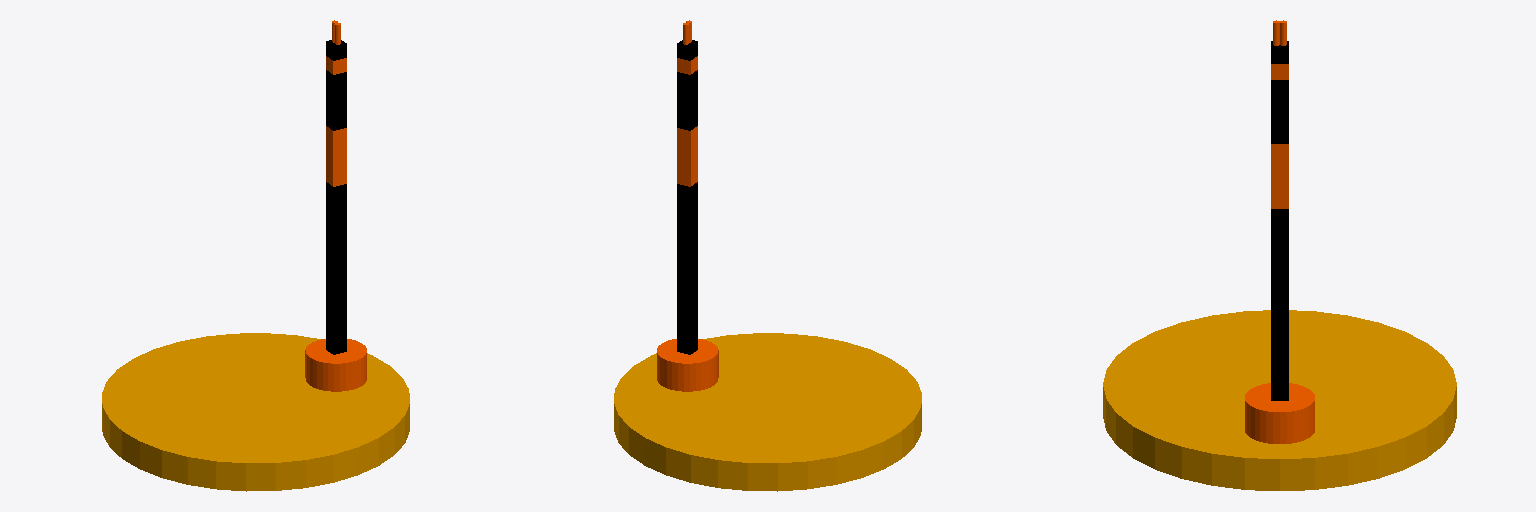
The robot description file, URDF, robot "testarm":
<?xml version="1.0" encoding="utf-8"?>
<!-- =================================================================================== -->
<!-- |    This document was autogenerated by xacro from testarm.xacro                  | -->
<!-- |    EDITING THIS FILE BY HAND IS NOT RECOMMENDED                                 | -->
<!-- =================================================================================== -->
<robot name="testarm" xmlns:xacro="http://www.ros.org/wiki/xacro">
  <material name="black">
    <color rgba="0.0 0.0 0.0 1.0"/>
  </material>
  <material name="orange">
    <color rgba="1.0 0.4 0.0 1.0"/>
  </material>
  <link name="base_link">
    <collision>
      <origin rpy="0 0 0" xyz="0.0 0.0 0.0"/>
      <geometry>
        <cylinder length="0.1" radius="0.5"/>
      </geometry>
    </collision>
    <visual>
      <origin rpy="0 0 0" xyz="0.0 0.0 0.0"/>
      <geometry>
        <cylinder length="0.1" radius="0.5"/>
      </geometry>
    </visual>
    <inertial>
      <origin rpy="0 0 0" xyz="0 0 0"/>
      <mass value="100"/>
      <inertia ixx="6.33333333333" ixy="0" ixz="0" iyy="6.33333333333" iyz="0" izz="25.0"/>
    </inertial>
  </link>
  <joint name="joint_base" type="revolute">
    <parent link="base_link"/>
    <child link="link0"/>
    <origin rpy="0 0 0" xyz="0.3 0 0.05"/>
    <axis xyz="0 0 1"/>
    <limit effort="300" lower="-1.78539816339" upper="1.78539816339" velocity="1.571"/>
  </joint>
  <link name="link0">
    <collision>
      <origin rpy="0 0 0" xyz="0 0 0.05"/>
      <geometry>
        <cylinder length="0.1" radius="0.1"/>
      </geometry>
    </collision>
    <visual>
      <origin rpy="0 0 0" xyz="0 0 0.05"/>
      <geometry>
        <cylinder length="0.1" radius="0.1"/>
      </geometry>
      <material name="orange"/>
    </visual>
    <inertial>
      <origin rpy="0 0 0" xyz="0 0 0.05"/>
      <mass value="1"/>
      <inertia ixx="0.00333333333333" ixy="0" ixz="0" iyy="0.00333333333333" iyz="0" izz="0.05"/>
    </inertial>
  </link>
  <joint name="joint0" type="revolute">
    <parent link="link0"/>
    <child link="link1"/>
    <origin rpy="0 0 0" xyz="0 0 0.1"/>
    <axis xyz="0 1 0"/>
    <limit effort="300" lower="-1.78539816339" upper="1.78539816339" velocity="1.571"/>
  </joint>
  <link name="link1">
    <collision>
      <origin rpy="0 0 0" xyz="0 0 0.3"/>
      <geometry>
        <box size="0.05 0.05 0.6"/>
      </geometry>
    </collision>
    <visual>
      <origin rpy="0 0 0" xyz="0 0 0.3"/>
      <geometry>
        <box size="0.05 0.05 0.6"/>
      </geometry>
      <material name="black"/>
    </visual>
    <inertial>
      <origin rpy="0 0 0" xyz="0 0 0.3"/>
      <mass value="1"/>
      <inertia ixx="0.03020832125" ixy="0.0" ixz="0.0" iyy="0.03020832125" iyz="0.0" izz="0.0004166665"/>
    </inertial>
  </link>
  <joint name="joint1" type="revolute">
    <parent link="link1"/>
    <child link="link2"/>
    <origin rpy="0 0 0" xyz="0 0 0.6"/>
    <axis xyz="0 1 0"/>
    <limit effort="300" lower="-1.78539816339" upper="1.78539816339" velocity="1.571"/>
  </joint>
  <link name="link2">
    <collision>
      <origin rpy="0 0 0" xyz="0 0 0.1"/>
      <geometry>
        <box size="0.05 0.05 0.2"/>
      </geometry>
    </collision>
    <visual>
      <origin rpy="0 0 0" xyz="0 0 0.1"/>
      <geometry>
        <box size="0.05 0.05 0.2"/>
      </geometry>
      <material name="orange"/>
    </visual>
    <inertial>
      <origin rpy="0 0 0" xyz="0 0 0.1"/>
      <mass value="1"/>
      <inertia ixx="0.00354166525" ixy="0.0" ixz="0.0" iyy="0.00354166525" iyz="0.0" izz="0.0004166665"/>
    </inertial>
  </link>
  <joint name="joint2" type="revolute">
    <parent link="link2"/>
    <child link="link3"/>
    <origin rpy="0 0 0" xyz="0 0 0.2"/>
    <axis xyz="0 0 1"/>
    <limit effort="300" lower="-1.78539816339" upper="1.78539816339" velocity="1.571"/>
  </joint>
  <link name="link3">
    <collision>
      <origin rpy="0 0 0" xyz="0 0 0.1"/>
      <geometry>
        <box size="0.05 0.05 0.2"/>
      </geometry>
    </collision>
    <visual>
      <origin rpy="0 0 0" xyz="0 0 0.1"/>
      <geometry>
        <box size="0.05 0.05 0.2"/>
      </geometry>
      <material name="black"/>
    </visual>
    <inertial>
      <origin rpy="0 0 0" xyz="0 0 0.1"/>
      <mass value="1"/>
      <inertia ixx="0.00354166525" ixy="0.0" ixz="0.0" iyy="0.00354166525" iyz="0.0" izz="0.0004166665"/>
    </inertial>
  </link>
  <joint name="joint3" type="revolute">
    <parent link="link3"/>
    <child link="link4"/>
    <origin rpy="0 0 0" xyz="0 0 0.2"/>
    <axis xyz="0 1 0"/>
    <limit effort="300" lower="-1.78539816339" upper="1.78539816339" velocity="1.571"/>
  </joint>
  <link name="link4">
    <collision>
      <origin rpy="0 0 0" xyz="0 0 0.025"/>
      <geometry>
        <box size="0.05 0.05 0.05"/>
      </geometry>
    </collision>
    <visual>
      <origin rpy="0 0 0" xyz="0 0 0.025"/>
      <geometry>
        <box size="0.05 0.05 0.05"/>
      </geometry>
      <material name="orange"/>
    </visual>
    <inertial>
      <origin rpy="0 0 0" xyz="0 0 0.025"/>
      <mass value="1"/>
      <inertia ixx="0.0004166665" ixy="0.0" ixz="0.0" iyy="0.0004166665" iyz="0.0" izz="0.0004166665"/>
    </inertial>
  </link>
  <joint name="joint4" type="revolute">
    <parent link="link4"/>
    <child link="link5"/>
    <origin rpy="0 0 0" xyz="0 0 0.05"/>
    <axis xyz="0 0 1"/>
    <limit effort="300" lower="-1.78539816339" upper="1.78539816339" velocity="1.571"/>
  </joint>
  <link name="link5">
    <collision>
      <origin rpy="0 0 0" xyz="0 0 0.025"/>
      <geometry>
        <box size="0.05 0.05 0.05"/>
      </geometry>
    </collision>
    <visual>
      <origin rpy="0 0 0" xyz="0 0 0.025"/>
      <geometry>
        <box size="0.05 0.05 0.05"/>
      </geometry>
      <material name="black"/>
    </visual>
    <inertial>
      <origin rpy="0 0 0" xyz="0 0 0.025"/>
      <mass value="1"/>
      <inertia ixx="0.0004166665" ixy="0.0" ixz="0.0" iyy="0.0004166665" iyz="0.0" izz="0.0004166665"/>
    </inertial>
  </link>
  <joint name="joint5" type="revolute">
    <parent link="link5"/>
    <child link="gripper_left"/>
    <origin rpy="0 0 0" xyz="0 0.01 0.05"/>
    <axis xyz="1 0 0"/>
    <limit effort="300" lower="-1.78539816339" upper="1.78539816339" velocity="1.571"/>
  </joint>
  <joint name="joint6" type="revolute">
    <parent link="link5"/>
    <child link="gripper_right"/>
    <origin rpy="0 0 0" xyz="0 -0.01 0.05"/>
    <axis xyz="1 0 0"/>
    <limit effort="300" lower="-1.78539816339" upper="1.78539816339" velocity="1.571"/>
  </joint>
  <link name="gripper_left">
    <collision>
      <origin rpy="0 0 0" xyz="0 0 0.035"/>
      <geometry>
        <cylinder length="0.07" radius="0.01"/>
      </geometry>
    </collision>
    <visual>
      <origin rpy="0 0 0" xyz="0 0 0.035"/>
      <geometry>
        <cylinder length="0.07" radius="0.01"/>
      </geometry>
      <material name="orange"/>
    </visual>
    <inertial>
      <origin rpy="0 0 0" xyz="0 0 0.035"/>
      <mass value="1"/>
      <inertia ixx="0.000433333333333" ixy="0" ixz="0" iyy="0.000433333333333" iyz="0" izz="0.005"/>
    </inertial>
  </link>
  <link name="gripper_right">
    <collision>
      <origin rpy="0 0 0" xyz="0 0 0.035"/>
      <geometry>
        <cylinder length="0.07" radius="0.01"/>
      </geometry>
    </collision>
    <visual>
      <origin rpy="0 0 0" xyz="0 0 0.035"/>
      <geometry>
        <cylinder length="0.07" radius="0.01"/>
      </geometry>
      <material name="orange"/>
    </visual>
    <inertial>
      <origin rpy="0 0 0" xyz="0 0 0.035"/>
      <mass value="1"/>
      <inertia ixx="0.000433333333333" ixy="0" ixz="0" iyy="0.000433333333333" iyz="0" izz="0.005"/>
    </inertial>
  </link>
  <!-- Transmission is important to link the joint and the controller -->
  <transmission name="joint_base_trans">
    <type>transmission_interface/SimpleTransmission</type>
    <joint name="joint_base">
      <hardwareInterface>hardware_interface/EffortJointInterface</hardwareInterface>
    </joint>
    <actuator name="joint_base_motor">
      <mechanicalReduction>1</mechanicalReduction>
    </actuator>
  </transmission>
  <transmission name="joint0_trans">
    <type>transmission_interface/SimpleTransmission</type>
    <joint name="joint0">
      <hardwareInterface>hardware_interface/EffortJointInterface</hardwareInterface>
    </joint>
    <actuator name="joint0_motor">
      <mechanicalReduction>1</mechanicalReduction>
    </actuator>
  </transmission>
  <transmission name="joint1_trans">
    <type>transmission_interface/SimpleTransmission</type>
    <joint name="joint1">
      <hardwareInterface>hardware_interface/EffortJointInterface</hardwareInterface>
    </joint>
    <actuator name="joint1_motor">
      <mechanicalReduction>1</mechanicalReduction>
    </actuator>
  </transmission>
  <transmission name="joint2_trans">
    <type>transmission_interface/SimpleTransmission</type>
    <joint name="joint2">
      <hardwareInterface>hardware_interface/EffortJointInterface</hardwareInterface>
    </joint>
    <actuator name="joint2_motor">
      <mechanicalReduction>1</mechanicalReduction>
    </actuator>
  </transmission>
  <transmission name="joint3_trans">
    <type>transmission_interface/SimpleTransmission</type>
    <joint name="joint3">
      <hardwareInterface>hardware_interface/EffortJointInterface</hardwareInterface>
    </joint>
    <actuator name="joint3_motor">
      <mechanicalReduction>1</mechanicalReduction>
    </actuator>
  </transmission>
  <transmission name="joint4_trans">
    <type>transmission_interface/SimpleTransmission</type>
    <joint name="joint4">
      <hardwareInterface>hardware_interface/EffortJointInterface</hardwareInterface>
    </joint>
    <actuator name="joint4_motor">
      <mechanicalReduction>1</mechanicalReduction>
    </actuator>
  </transmission>
  <transmission name="joint5_trans">
    <type>transmission_interface/SimpleTransmission</type>
    <joint name="joint5">
      <hardwareInterface>hardware_interface/EffortJointInterface</hardwareInterface>
    </joint>
    <actuator name="joint5_motor">
      <mechanicalReduction>1</mechanicalReduction>
    </actuator>
  </transmission>
  <transmission name="joint6_trans">
    <type>transmission_interface/SimpleTransmission</type>
    <joint name="joint6">
      <hardwareInterface>hardware_interface/EffortJointInterface</hardwareInterface>
    </joint>
    <actuator name="joint6_motor">
      <mechanicalReduction>1</mechanicalReduction>
    </actuator>
  </transmission>
  <gazebo>
    <plugin filename="libgazebo_ros_joint_state_publisher.so" name="joint_state_publisher">
      <jointName>
            joint_base, 
            joint0, 
            joint1, 
            joint2,
            joint3,
            joint4,
            joint5,
            joint6
         </jointName>
      <robotNameSpace>/</robotNameSpace>
      <updateRate>100</updateRate>
      <alwaysOn>true</alwaysOn>
    </plugin>
  </gazebo>
  <!-- <gazebo>
      <plugin name="gazebo_ros_control" filename="libgazebo_ros_control.so">
         <robotNamespace>/</robotNamespace>
         <robotSimType>gazebo_ros_control/DefaultRobotHWSim</robotSimType>
         <legacyModeNS>true</legacyModeNS>
      </plugin>
   </gazebo> -->
  <gazebo>
    <plugin filename="libgazebo_ros_control.so" name="gazebo_ros_control">
      <robotNamespace>/nimrod</robotNamespace>
    </plugin>
  </gazebo>
</robot>

--- Render facts (derived) ---
3 views of the same robot in one strip: view 1: azimuth 30°, elevation 25°; view 2: azimuth 150°, elevation 25°; view 3: azimuth 270°, elevation 25° (orthographic).
Model testarm with 9 links and 8 joints (8 revolute), rooted at base_link, posed every joint at zero.
Links seen in each view (by area): view 1: base_link, link1, link0, link2, link3; view 2: base_link, link1, link0, link2, link3; view 3: base_link, link0, link1, link2, link3.
Link boxes in pixels (bbox=[...]): base_link: bbox=[102, 333, 409, 491]; link1: bbox=[326, 182, 346, 354]; link0: bbox=[305, 339, 366, 391]; link2: bbox=[326, 126, 346, 186]; link3: bbox=[326, 70, 346, 130]; base_link: bbox=[614, 333, 921, 491]; link1: bbox=[677, 182, 697, 354]; link0: bbox=[657, 339, 718, 391]; link2: bbox=[677, 126, 697, 186]; link3: bbox=[677, 70, 697, 130]; base_link: bbox=[1103, 310, 1456, 490]; link0: bbox=[1245, 383, 1314, 443]; link1: bbox=[1271, 209, 1288, 400]; link2: bbox=[1271, 144, 1288, 208]; link3: bbox=[1271, 80, 1288, 143].
Size in the robot's own frame: 1 by 1 by 1.37 metres.
Geometry: primitives only (box / cylinder / sphere), no mesh files.